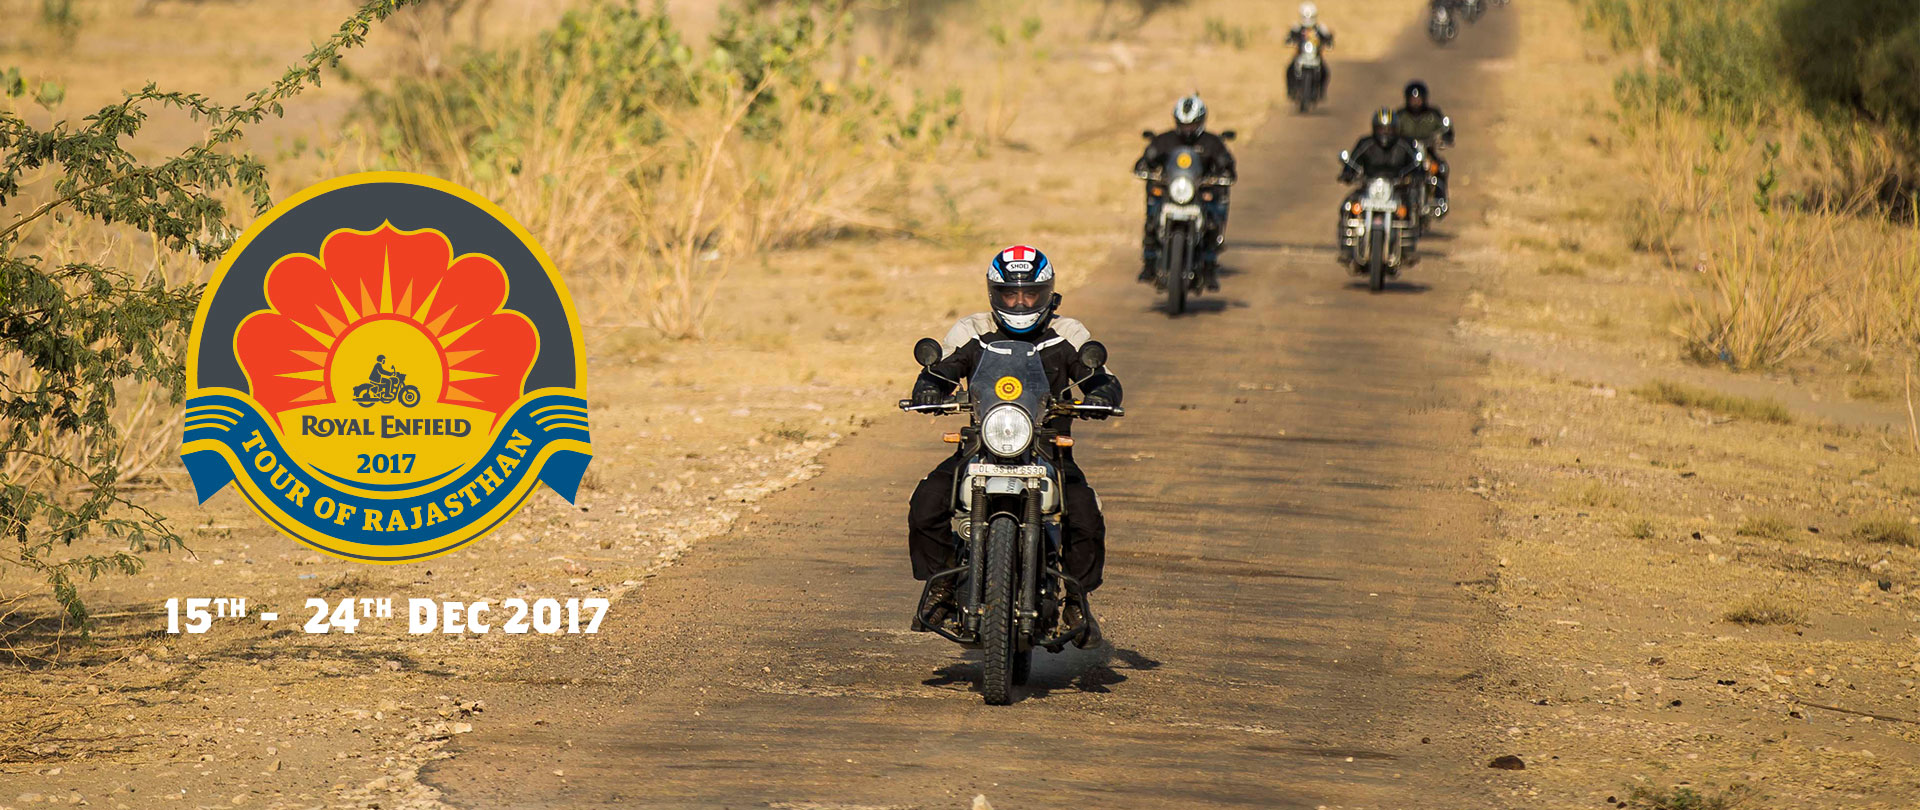helmet: (973, 243, 1059, 330)
